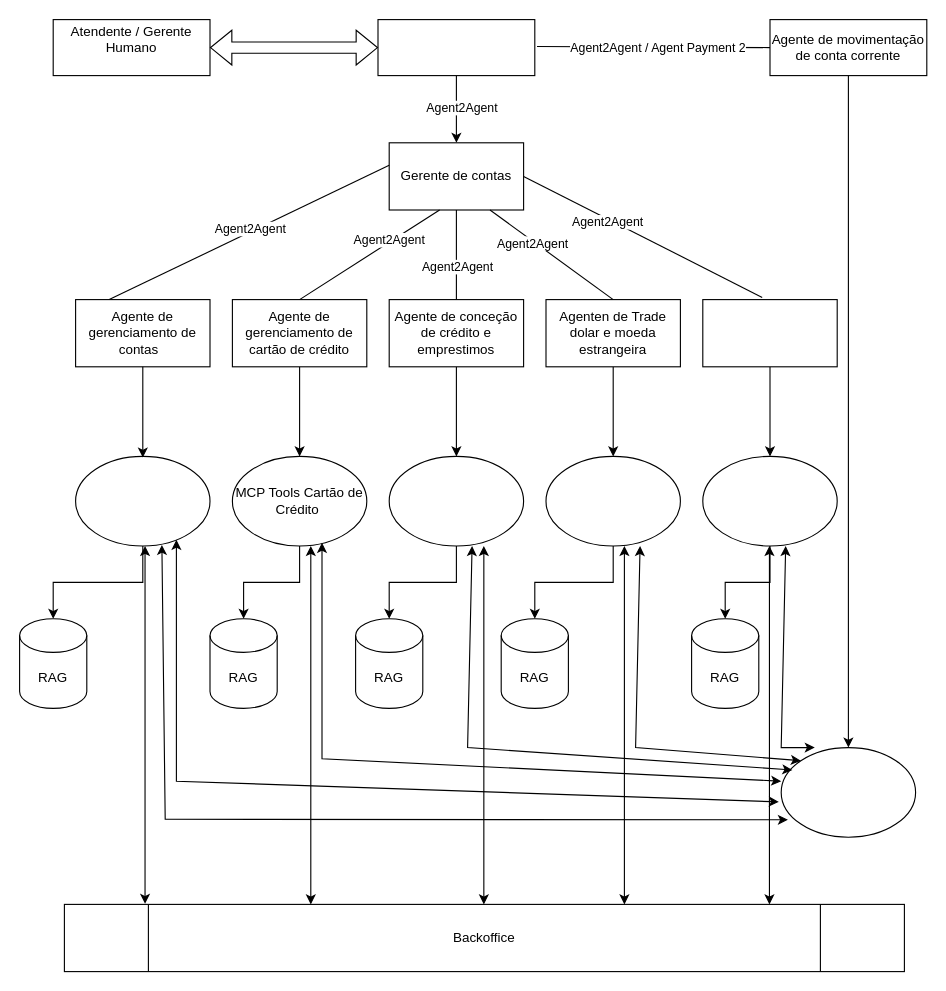
This 946x991 diagram has some shape labels left out. Here are the shapes that lost their labels. From the top down, the centre of each, then its label:
(x=456, y=47): Agente de atendimento
(x=769, y=332): Agente de Investimento
(x=142, y=500): MCP Tools Contas
(x=456, y=500): MCP Tools Crédito e Emprestimo
(x=612, y=500): MCP Tools Dolar / Moeda estrageira
(x=769, y=500): MCP Tools Investimento
(x=848, y=791): MCP Banco / API Legado
